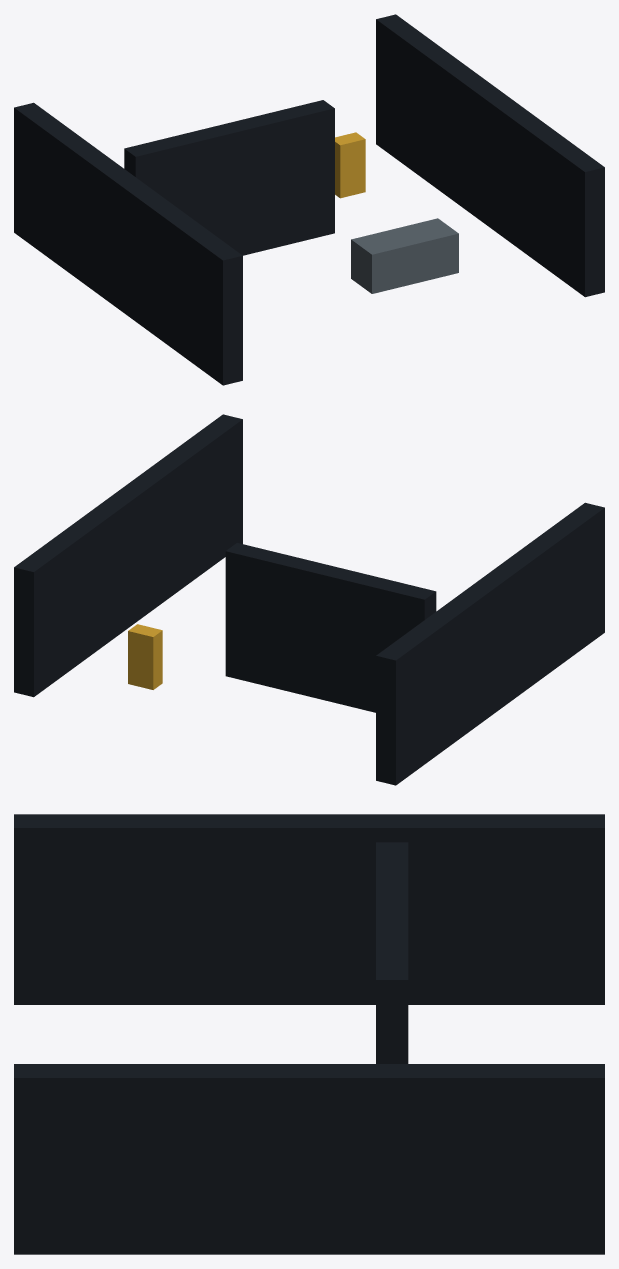
File: module.hostage_room_split.glb
3 renders of one model, top to bottom at view 1: azimuth 30°, elevation 25°; view 2: azimuth 150°, elevation 25°; view 3: azimuth 270°, elevation 25°, orthographic. The views are drawn at different scales.
Visible parts, largest first — view 1: outer_left, outer_right, splitter, low_cover, hostage_marker; view 2: outer_left, outer_right, splitter, hostage_marker; view 3: outer_right, outer_left, splitter.
Part boxes in pixels (box(x1,y1,x2,y2)): outer_left: box(14, 102, 242, 385); outer_right: box(376, 14, 604, 297); splitter: box(124, 100, 334, 255); low_cover: box(351, 218, 458, 293); hostage_marker: box(335, 132, 365, 198); outer_left: box(376, 502, 604, 785); outer_right: box(14, 414, 242, 697); splitter: box(225, 543, 436, 712); hostage_marker: box(128, 624, 162, 689); outer_right: box(14, 1064, 604, 1254); outer_left: box(14, 814, 604, 1004); splitter: box(376, 842, 408, 1063).
Size of the model in its own units: 10.55 by 3.3 by 10.
